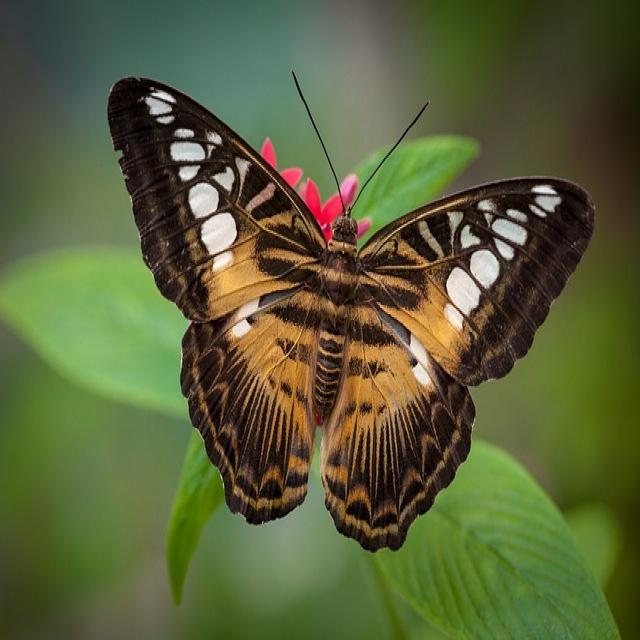butterfly: (108, 79, 594, 550)
